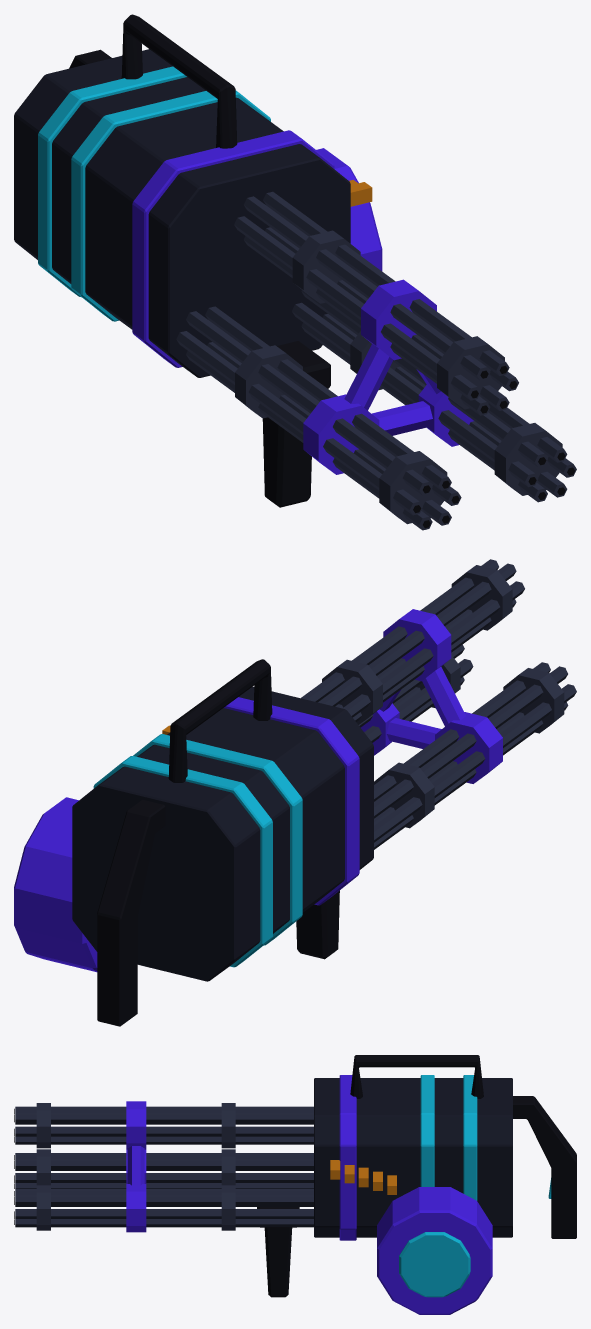
Rendered from myw_tripleminigun.obj.
3 renders of one model, top to bottom at view 1: azimuth 30°, elevation 25°; view 2: azimuth 150°, elevation 25°; view 3: azimuth 270°, elevation 25°, orthographic. The views are drawn at different scales.
Parts seen in each view (by area): view 1: Body, BarrelsB, BarrelsA, BarrelsC, Frame, Grip, AmmoDrum; view 2: Body, BarrelsB, BarrelsA, AmmoDrum, Frame, Grip, BarrelsC; view 3: Body, AmmoDrum, BarrelsA, BarrelsC, BarrelsB, Frame, Grip, Belt.
Part boxes in pixels (bbox=[...]): Body: bbox=[14, 14, 350, 377]; BarrelsB: bbox=[176, 306, 461, 530]; BarrelsA: bbox=[234, 191, 518, 415]; BarrelsC: bbox=[292, 290, 576, 502]; Frame: bbox=[303, 279, 473, 474]; Grip: bbox=[262, 341, 330, 507]; AmmoDrum: bbox=[316, 148, 382, 271]; Body: bbox=[72, 659, 373, 1026]; BarrelsB: bbox=[374, 662, 576, 849]; BarrelsA: bbox=[301, 559, 524, 724]; AmmoDrum: bbox=[14, 797, 97, 972]; Frame: bbox=[360, 609, 502, 783]; Grip: bbox=[296, 890, 339, 959]; BarrelsC: bbox=[358, 644, 473, 742]; Body: bbox=[314, 1055, 576, 1240]; AmmoDrum: bbox=[377, 1187, 492, 1314]; BarrelsA: bbox=[14, 1103, 313, 1148]; BarrelsC: bbox=[14, 1185, 313, 1230]; BarrelsB: bbox=[14, 1149, 313, 1188]; Frame: bbox=[126, 1101, 146, 1232]; Grip: bbox=[257, 1207, 299, 1297]; Belt: bbox=[330, 1160, 396, 1194].
Bounding box in the file's own units: 1.44 × 1.84 × 3.96.
